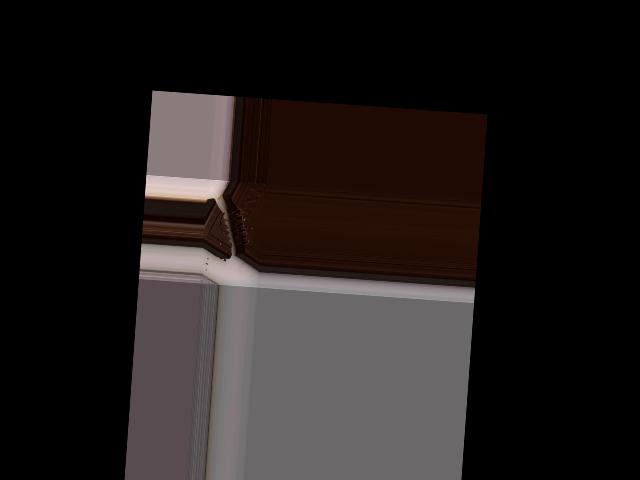chocolate: (200, 179, 264, 272)
